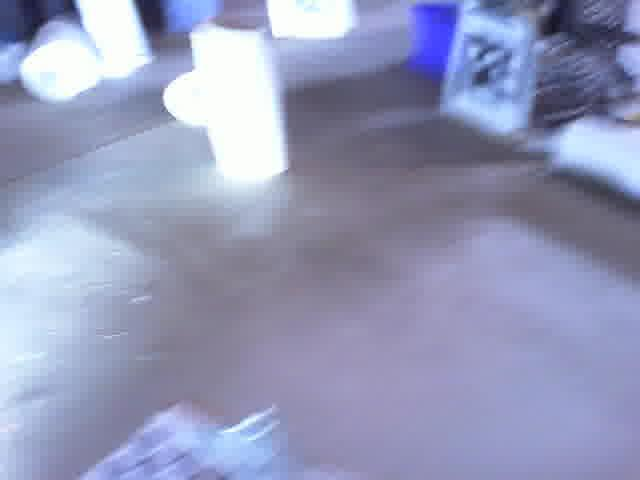coral: (185, 18, 291, 180), (162, 62, 211, 135)
